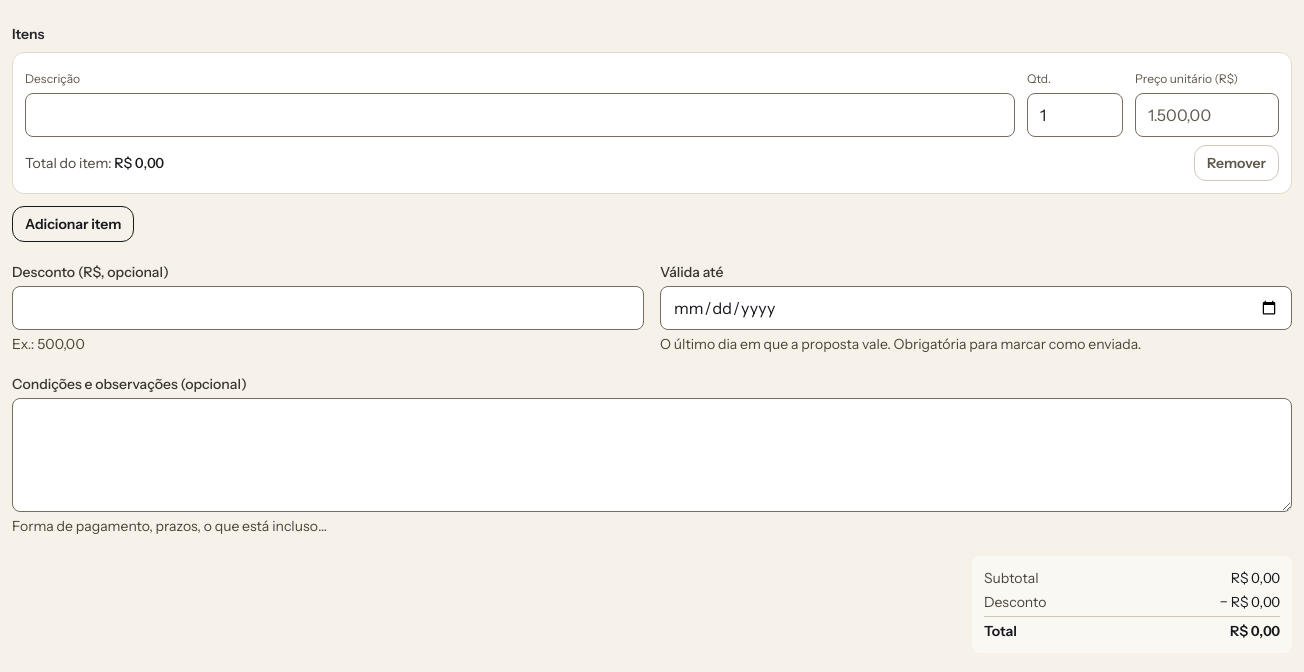
Test: ProposalForm — criar › adicionar e remover itens; o último item não se remove
The width and height of the screenshot is (1304, 672).
Expected: the button with aria-label "Remover item 1" is disabled, [1194,145,1279,181]
Click the button "Adicionar item".
click(73, 224)  # box [12,206,134,242]
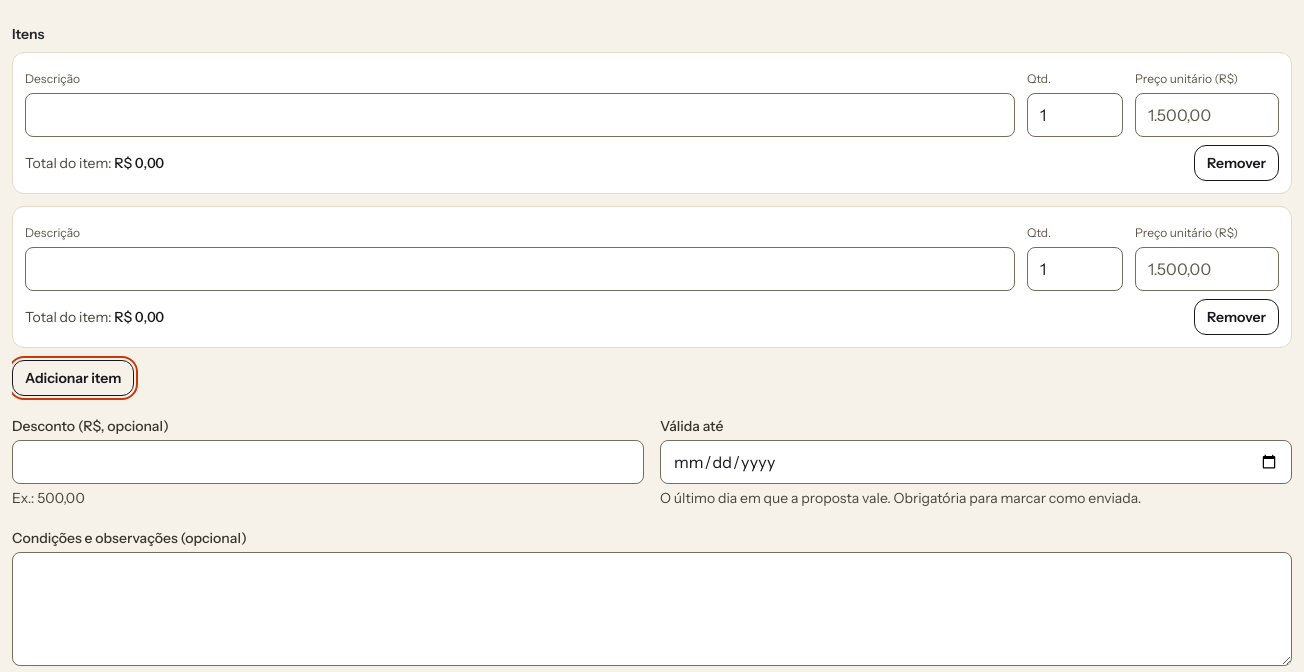
Now the number of list items with test id "proposal-form-row" is 2, box [12,52,1292,194]; [12,206,1292,348]
Type "Segundo" into the field named "Descrição do item 2".
click(520, 269); type("Segundo")  # box [25,247,1015,291]
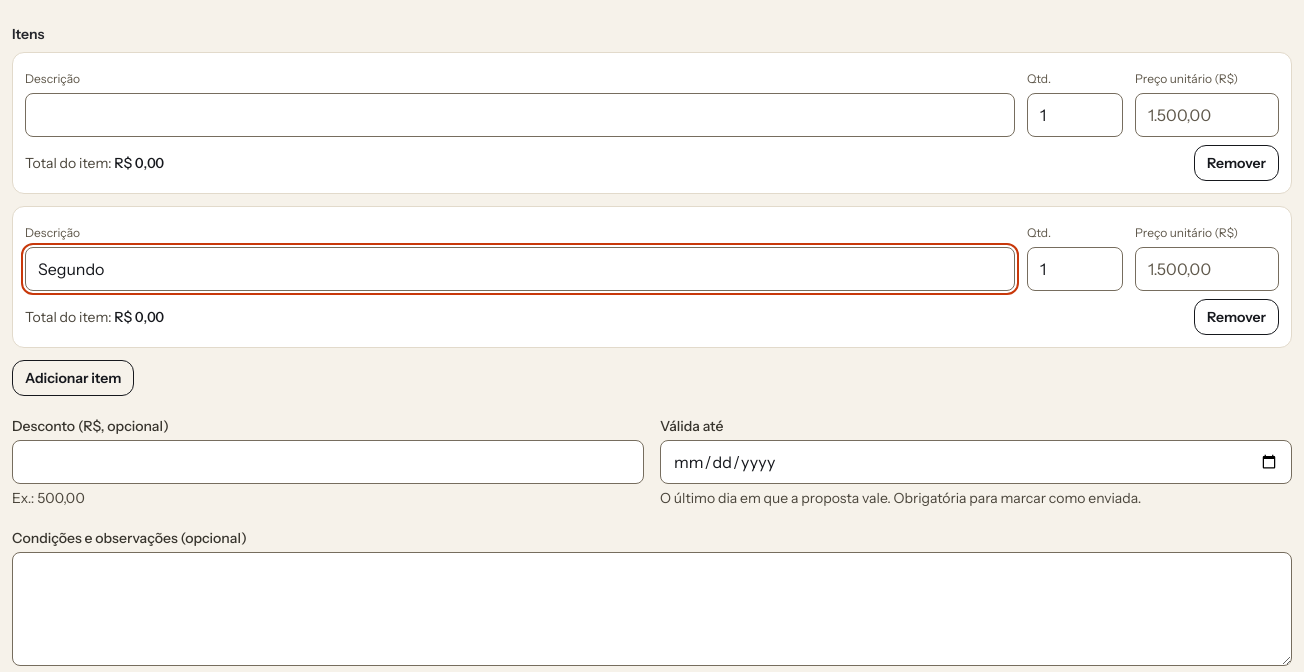
Click the button with aria-label "Remover item 1".
click(1236, 163)  # box [1194,145,1279,181]
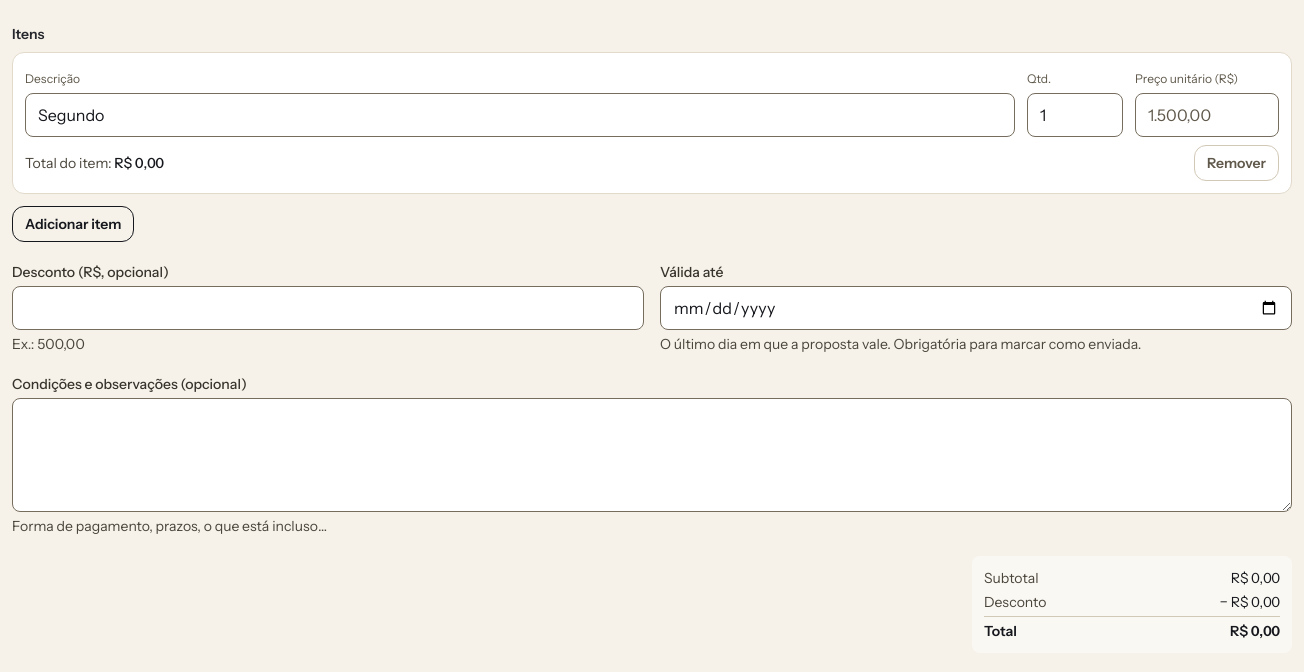
Now the number of list items with test id "proposal-form-row" is 1, box [12,52,1292,194]
